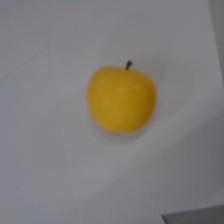yellow: (86, 60, 156, 133)
